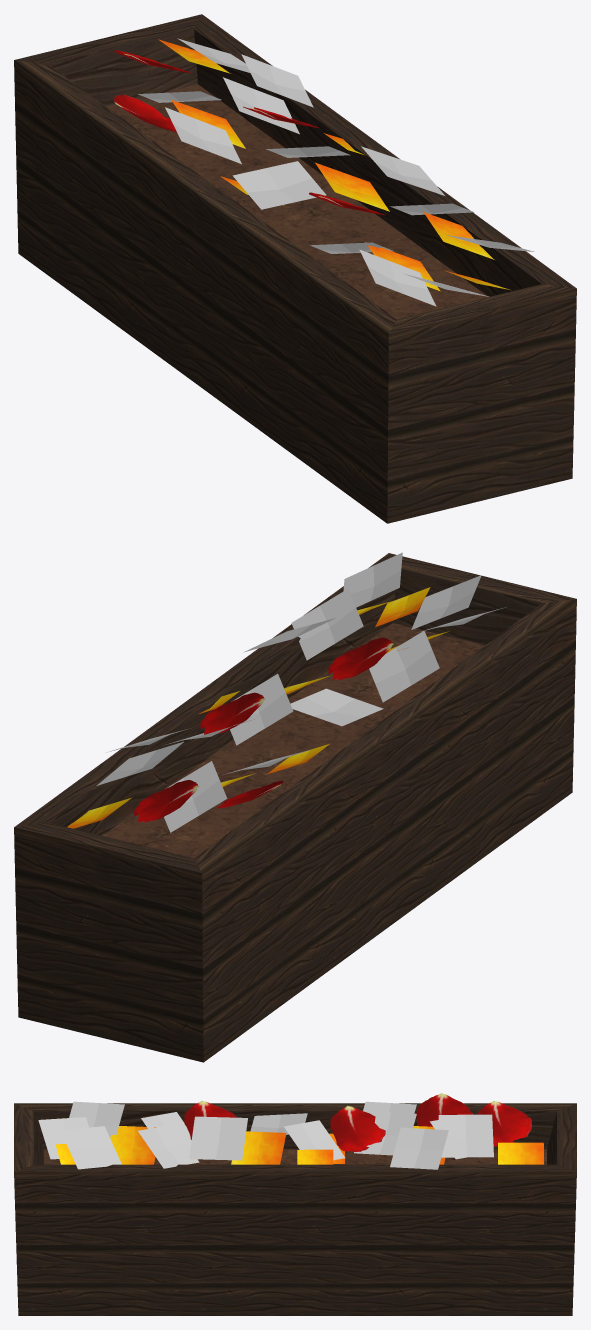
File: TestFlowers .fbx
3 renders of one model, top to bottom at view 1: azimuth 30°, elevation 25°; view 2: azimuth 150°, elevation 25°; view 3: azimuth 270°, elevation 25°, orthographic. The views are drawn at different scales.
Parts seen in each view (by area): view 1: Cube.020, Plane.001, Cube.062; view 2: Cube.020, Plane.001, Cube.062; view 3: Cube.020, Plane.001, Cube.062.
Boxes of the visible parts, x1,y1,x2,y2 form: Cube.020: (14,14,576,523); Plane.001: (114,38,534,306); Cube.062: (106,84,488,319); Cube.020: (14,553,576,1062); Plane.001: (67,552,506,832); Cube.062: (102,623,484,857); Cube.020: (14,1103,576,1315); Plane.001: (38,1093,543,1169); Cube.062: (44,1149,546,1164).
Bounding box in the file's own units: 32.11 × 37.73 × 109.
